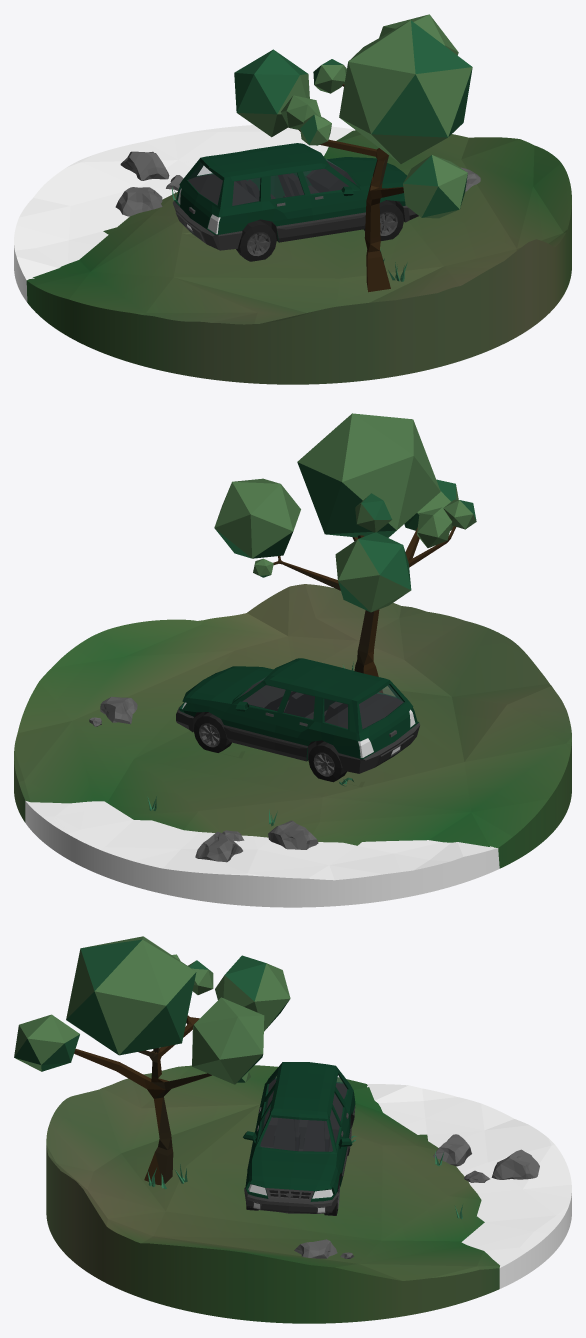
File: forester97_publish.fbx
The picture shows the model from 3 angles, top to bottom: view 1: azimuth 30°, elevation 25°; view 2: azimuth 150°, elevation 25°; view 3: azimuth 270°, elevation 25°; orthographic projection. The views are drawn at different scales.
Parts seen in each view (by area): view 1: Icosphere, Plane.001, Subi Body.001, Cube.001, Cube.002; view 2: Icosphere, Plane.001, Subi Body.001, Cube.001, Cube.002, Cube.004; view 3: Icosphere, Plane.001, Subi Body.001, Cube.002, Cube.001, Cube.004.
Part boxes in pixels (<box>): Icosphere: <box>14,125,571,384</box>; Plane.001: <box>234,14,472,292</box>; Subi Body.001: <box>173,143,418,261</box>; Cube.001: <box>115,187,162,216</box>; Cube.002: <box>120,151,169,180</box>; Icosphere: <box>14,584,571,907</box>; Plane.001: <box>214,413,476,693</box>; Subi Body.001: <box>176,658,419,782</box>; Cube.001: <box>268,820,318,849</box>; Cube.002: <box>195,831,242,862</box>; Cube.004: <box>100,696,137,724</box>; Icosphere: <box>46,1065,571,1323</box>; Plane.001: <box>14,936,290,1185</box>; Subi Body.001: <box>243,1062,355,1215</box>; Cube.002: <box>491,1149,539,1179</box>; Cube.001: <box>433,1134,471,1166</box>; Cube.004: <box>294,1239,337,1258</box>.
Bounding box in the file's own units: 368 × 222 × 391.
